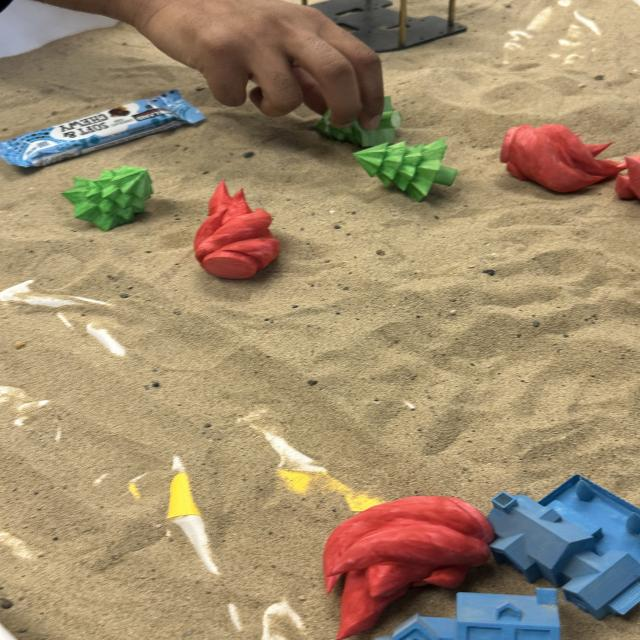fire: (318, 492, 498, 640), (191, 178, 282, 281), (500, 124, 626, 195), (616, 149, 640, 203)
house: (487, 474, 640, 620), (389, 587, 563, 640)
tree: (60, 163, 156, 232), (352, 142, 464, 198), (309, 97, 405, 148)
